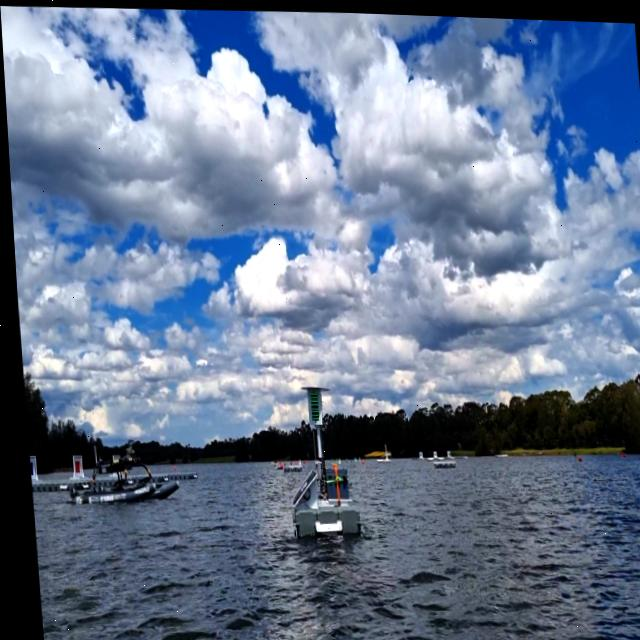led: (304, 387, 315, 421)
